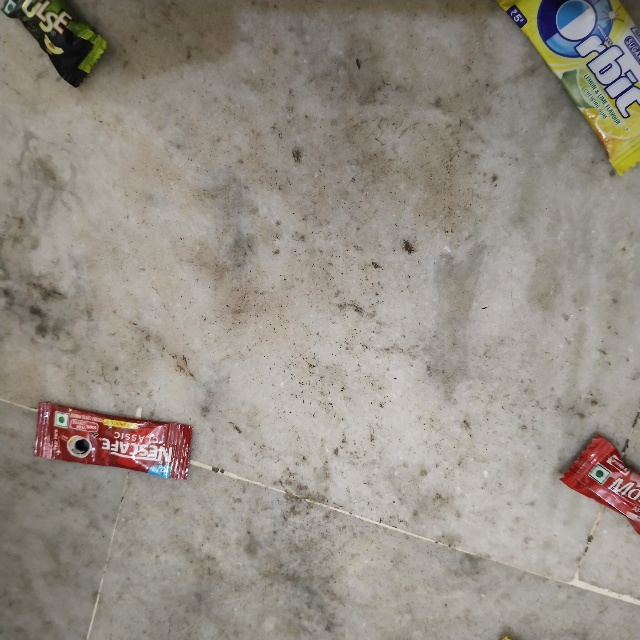Nescafe Coffee: (44, 401, 199, 461)
Pulse: (19, 33, 69, 112)
